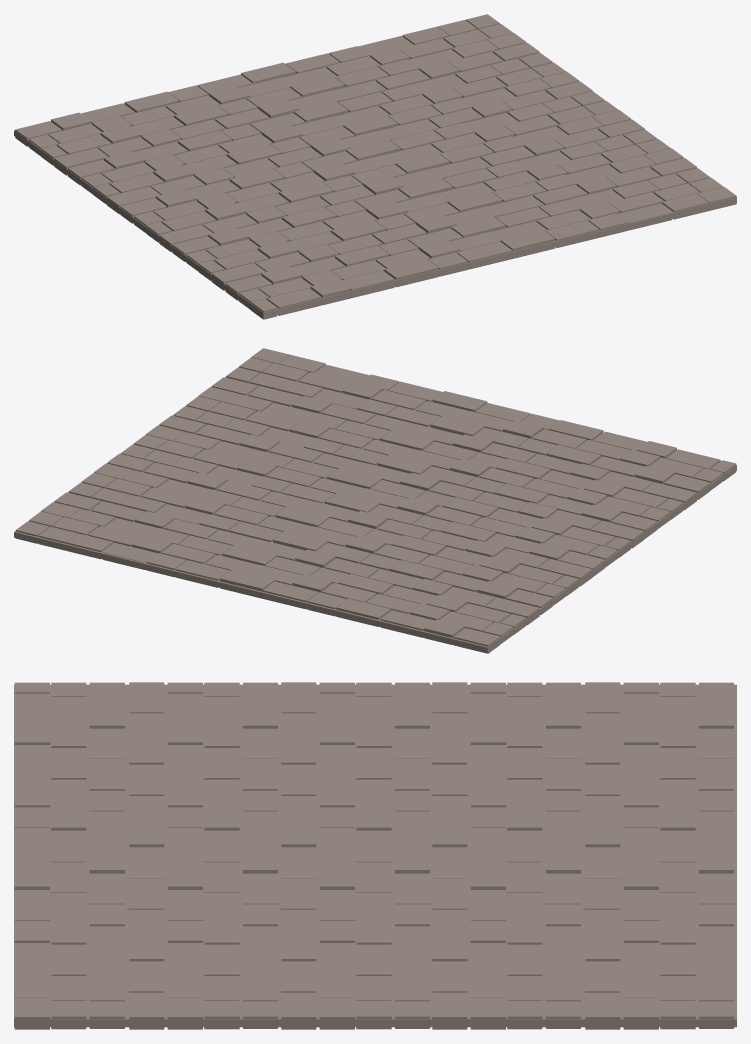
File: floor_4.glb
3 renders of one model, top to bottom at view 1: azimuth 30°, elevation 25°; view 2: azimuth 150°, elevation 25°; view 3: azimuth 270°, elevation 25°, orthographic. The views are drawn at different scales.
Parts seen in each view (by area): view 1: floor_4; view 2: floor_4; view 3: floor_4.
Part boxes in pixels (box(x1,y1,x2,y2)): floor_4: box(14, 14, 736, 319); floor_4: box(14, 348, 736, 653); floor_4: box(14, 682, 736, 1029).
Bounding box in the file's own units: 1.53 × 0.0317 × 1.4.
Materials: 1 (1 with a texture image).
